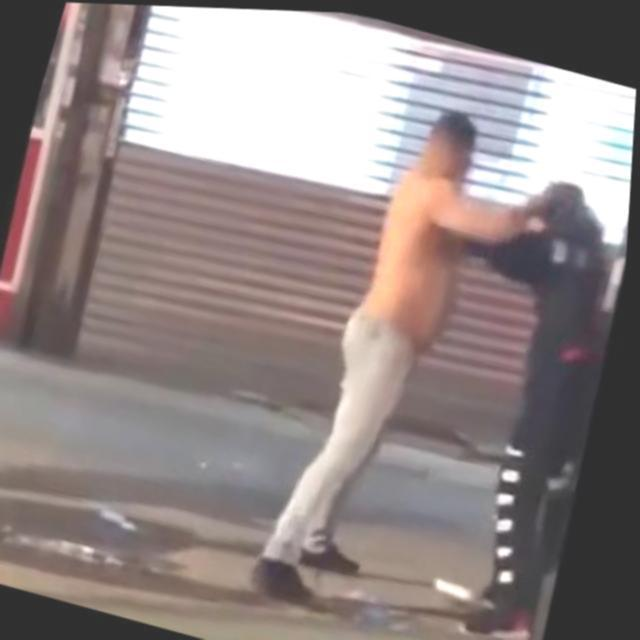fight: (247, 71, 637, 640)
